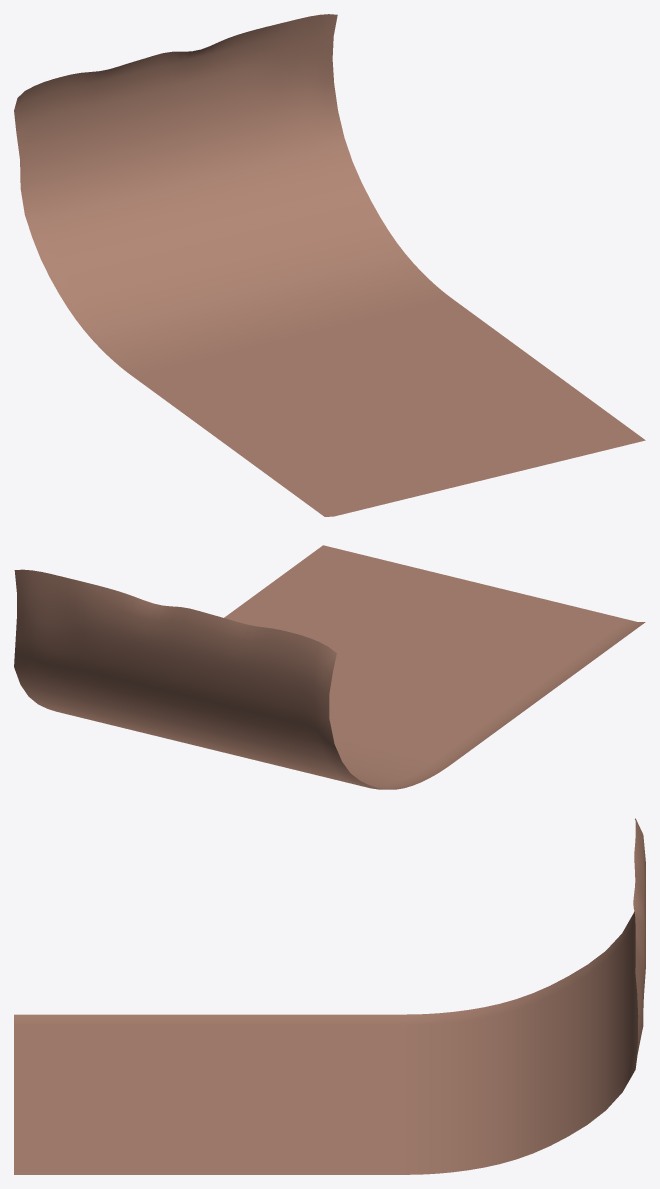
The model's file is SM_LavaRIver.fbx.
3 views of the same model, one above another, from view 1: azimuth 30°, elevation 25°; view 2: azimuth 150°, elevation 25°; view 3: azimuth 270°, elevation 25° (orthographic).
Parts seen in each view (by area): view 1: polySurface2; view 2: polySurface2; view 3: polySurface2.
Part boxes in pixels (x1,y1,x2,y2): polySurface2: (14,14,645,516); polySurface2: (14,545,645,789); polySurface2: (14,818,645,1174).
Size of the model in its own units: 747 by 457 by 1259.
